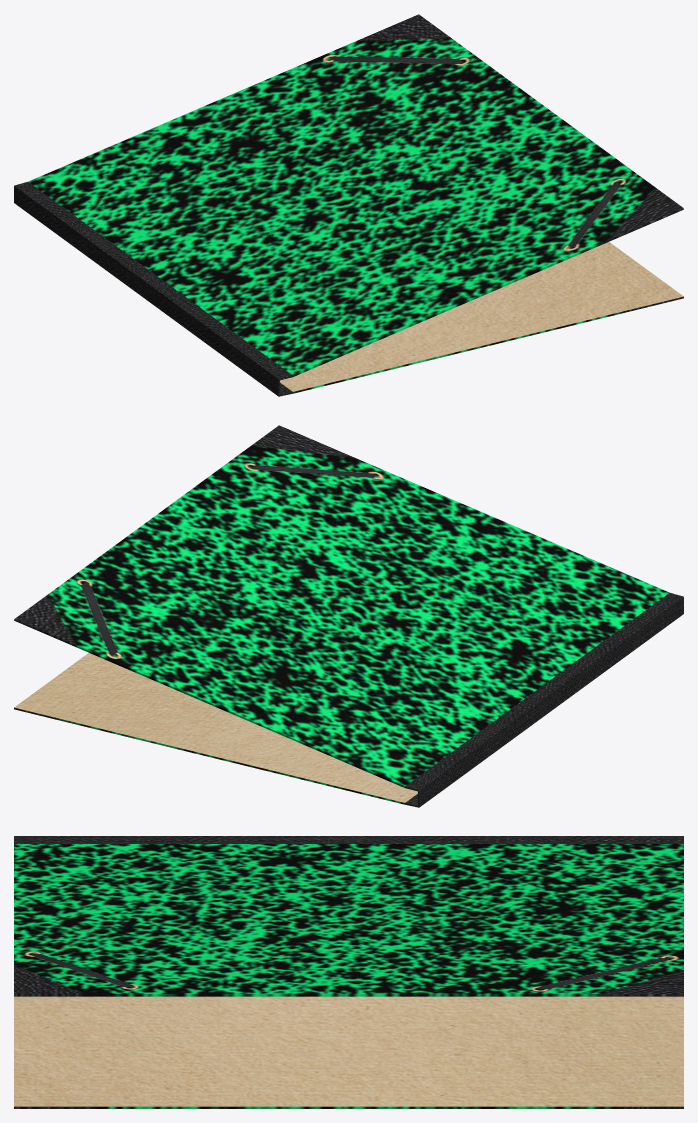
Rendered from CARTON A DESSIN.FBX.
The picture shows the model from 3 angles, top to bottom: view 1: azimuth 30°, elevation 25°; view 2: azimuth 150°, elevation 25°; view 3: azimuth 270°, elevation 25°; orthographic projection. The views are drawn at different scales.
Visible parts, largest first — view 1: Plan021; view 2: Plan021; view 3: Plan021.
Boxes of the visible parts, left/top/right/bottom form: Plan021: left=14, top=14, right=683, bottom=396; Plan021: left=14, top=425, right=683, bottom=807; Plan021: left=14, top=836, right=683, bottom=1108.
Size of the model in its own units: 240 by 51.13 by 271.
